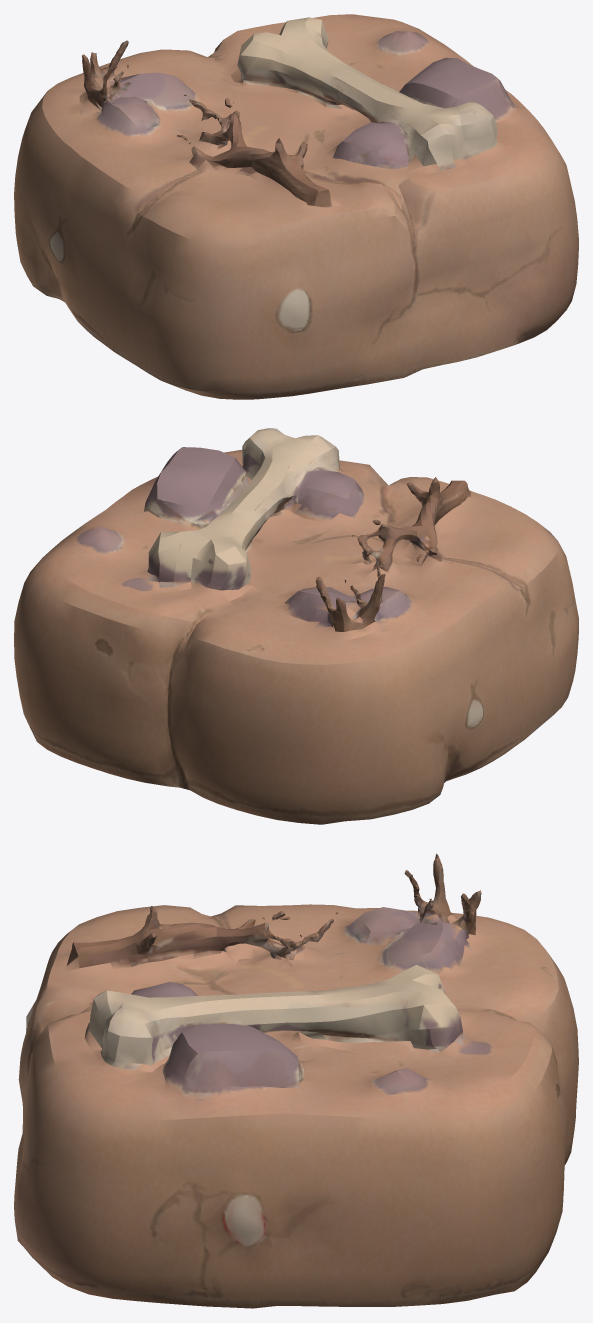
The model's file is Ground_Dry_003.fbx.
3 renders of one model, top to bottom at view 1: azimuth 30°, elevation 25°; view 2: azimuth 150°, elevation 25°; view 3: azimuth 270°, elevation 25°, orthographic. The views are drawn at different scales.
Parts seen in each view (by area): view 1: Ground_Dry_003; view 2: Ground_Dry_003; view 3: Ground_Dry_003.
Part boxes in pixels (x1=…): Ground_Dry_003: x1=14, y1=14, x2=578, y2=399; Ground_Dry_003: x1=14, y1=428, x2=578, y2=824; Ground_Dry_003: x1=14, y1=853, x2=578, y2=1308.
Size of the model in its own units: 99.46 by 50.65 by 99.29.
